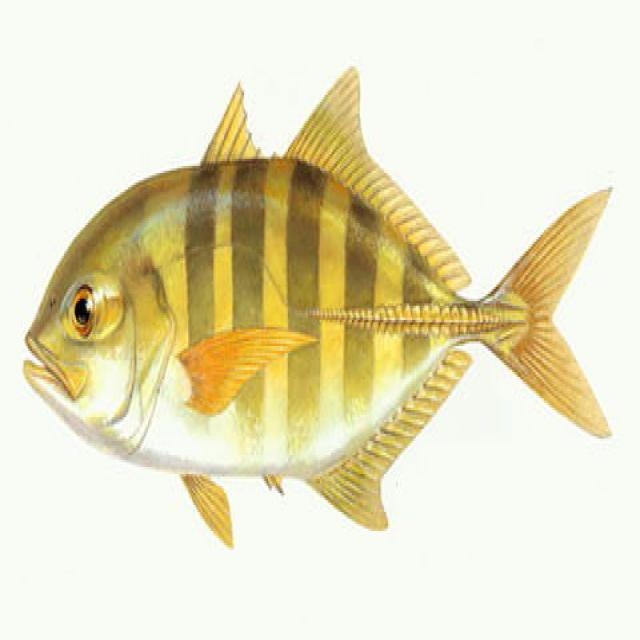ikan: (18, 48, 619, 558)
